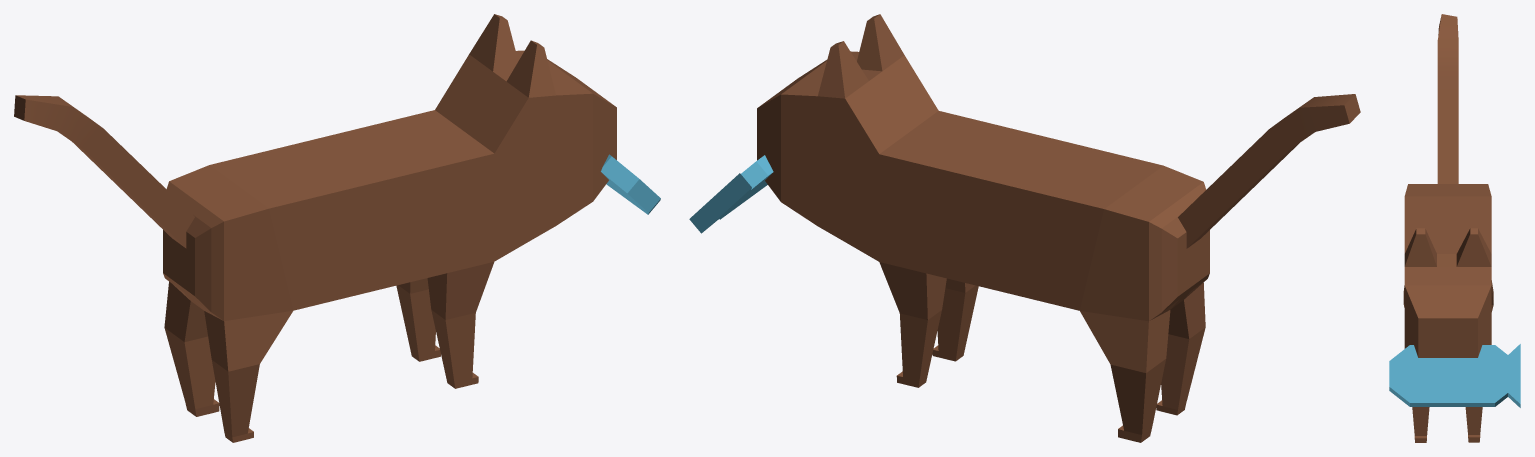
Rendered from cat.fbx.
3 views of the same model, side by side, from view 1: azimuth 30°, elevation 25°; view 2: azimuth 150°, elevation 25°; view 3: azimuth 270°, elevation 25° (orthographic). The views are drawn at different scales.
Visible parts, largest first — view 1: cat1; view 2: cat1; view 3: cat1.
Part boxes in pixels (left/top/right/bottom): cat1: left=14, top=14, right=660, bottom=442; cat1: left=689, top=14, right=1360, bottom=442; cat1: left=1389, top=14, right=1520, bottom=442.
Bounding box in the file's own units: 0.3738 × 0.2178 × 0.0944.
